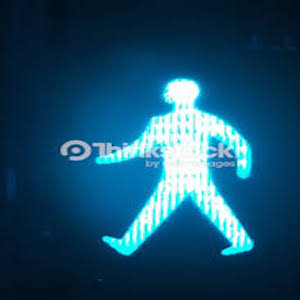green: (80, 66, 268, 266)
